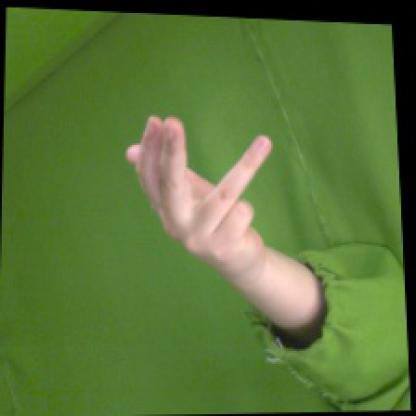Hand: (125, 115, 272, 272)
